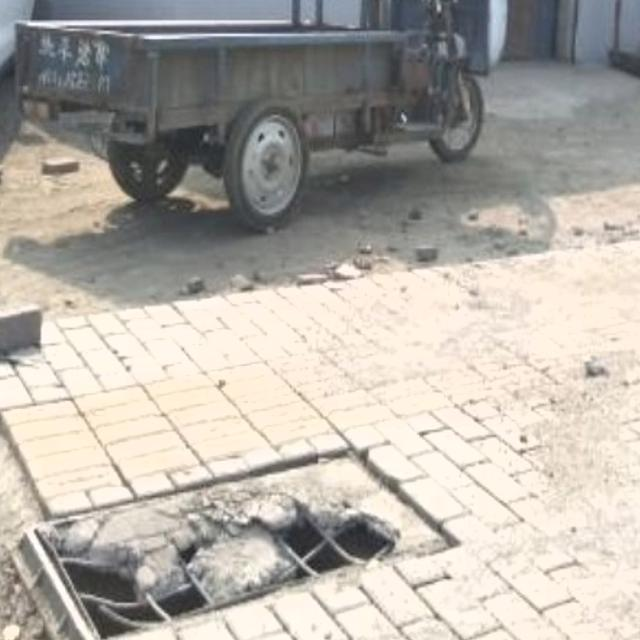broke: (16, 443, 462, 640)
